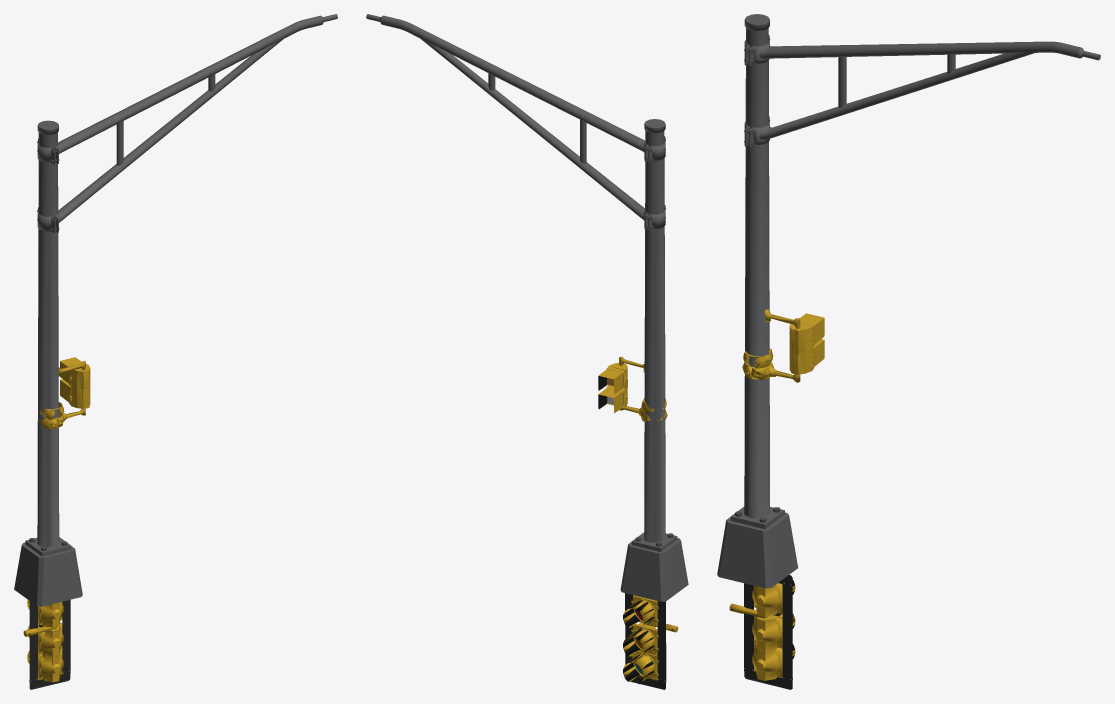
File: signal_kit.glb
3 renders of one model, left to right at view 1: azimuth 30°, elevation 25°; view 2: azimuth 150°, elevation 25°; view 3: azimuth 330°, elevation 25°, orthographic. The views are drawn at different scales.
Visible parts, largest first — view 1: pole, arm, head, ped; view 2: pole, arm, head, ped; view 3: pole, arm, head, ped.
Boxes of the visible parts, x1=… form: pole: x1=14, y1=120, x2=82, y2=606; arm: x1=58, y1=14, x2=337, y2=222; head: x1=23, y1=599, x2=70, y2=689; ped: x1=37, y1=357, x2=90, y2=429; pole: x1=620, y1=119, x2=688, y2=601; arm: x1=366, y1=14, x2=644, y2=220; head: x1=623, y1=593, x2=678, y2=689; ped: x1=598, y1=356, x2=667, y2=421; pole: x1=717, y1=14, x2=798, y2=588; arm: x1=759, y1=41, x2=1100, y2=139; head: x1=729, y1=575, x2=795, y2=689; ped: x1=742, y1=309, x2=824, y2=382.
Bounding box in the file's own units: 4.68 × 8.71 × 0.7655.
